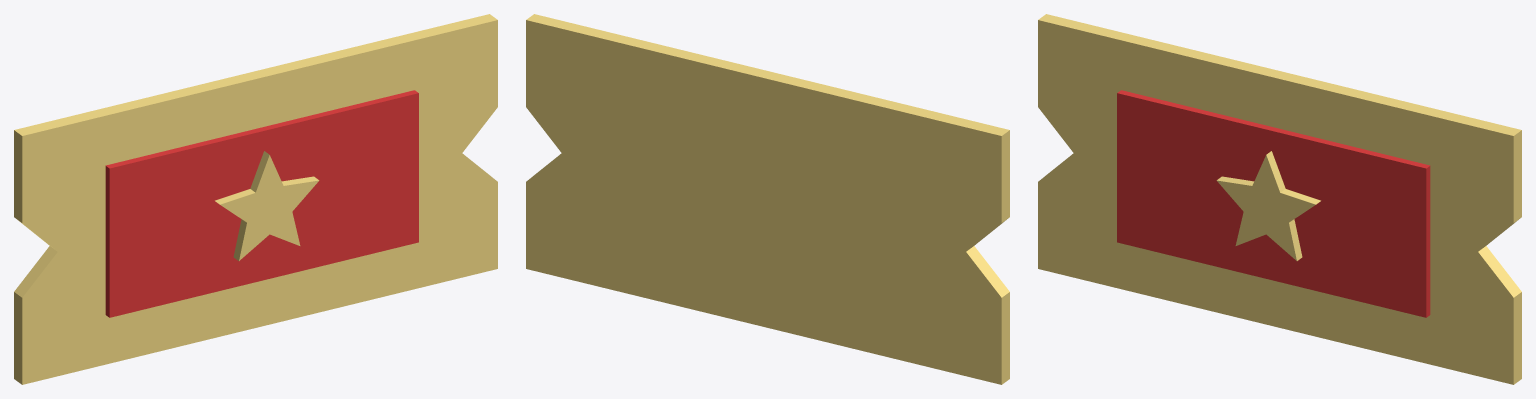
File: Ticket.fbx
3 renders of one model, left to right at view 1: azimuth 30°, elevation 25°; view 2: azimuth 150°, elevation 25°; view 3: azimuth 330°, elevation 25°, orthographic.
Visible parts, largest first — view 1: Ticket; view 2: Ticket; view 3: Ticket.
Part boxes in pixels (x1,y1,x2,y2): Ticket: (14, 14, 497, 384); Ticket: (526, 14, 1009, 384); Ticket: (1038, 14, 1521, 384).
Bounding box in the file's own units: 2 × 1 × 0.13.
1 material, 1 textured.
